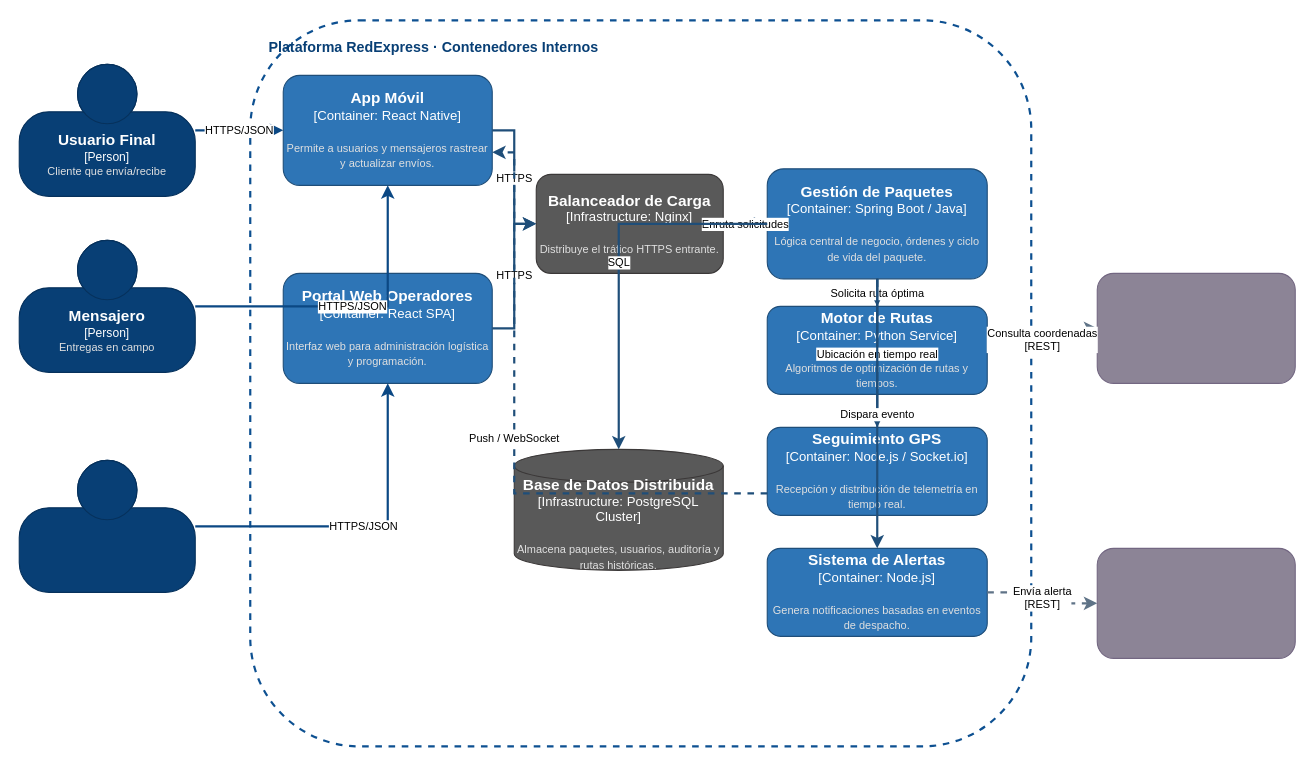
This 1315x766 diagram has some shape labels left out. Each missing label, with the centre of its shape:
"API de Notificaciones [External System] Envío SMS / Push / Email" goes at (x=1195, y=602).
"Operador Logístico [Person] Gestión de rutas y despachos" goes at (x=106, y=525).
"Proveedor Geolocalización [External System] Cálculo de rutas y coordenadas" goes at (x=1195, y=327).
